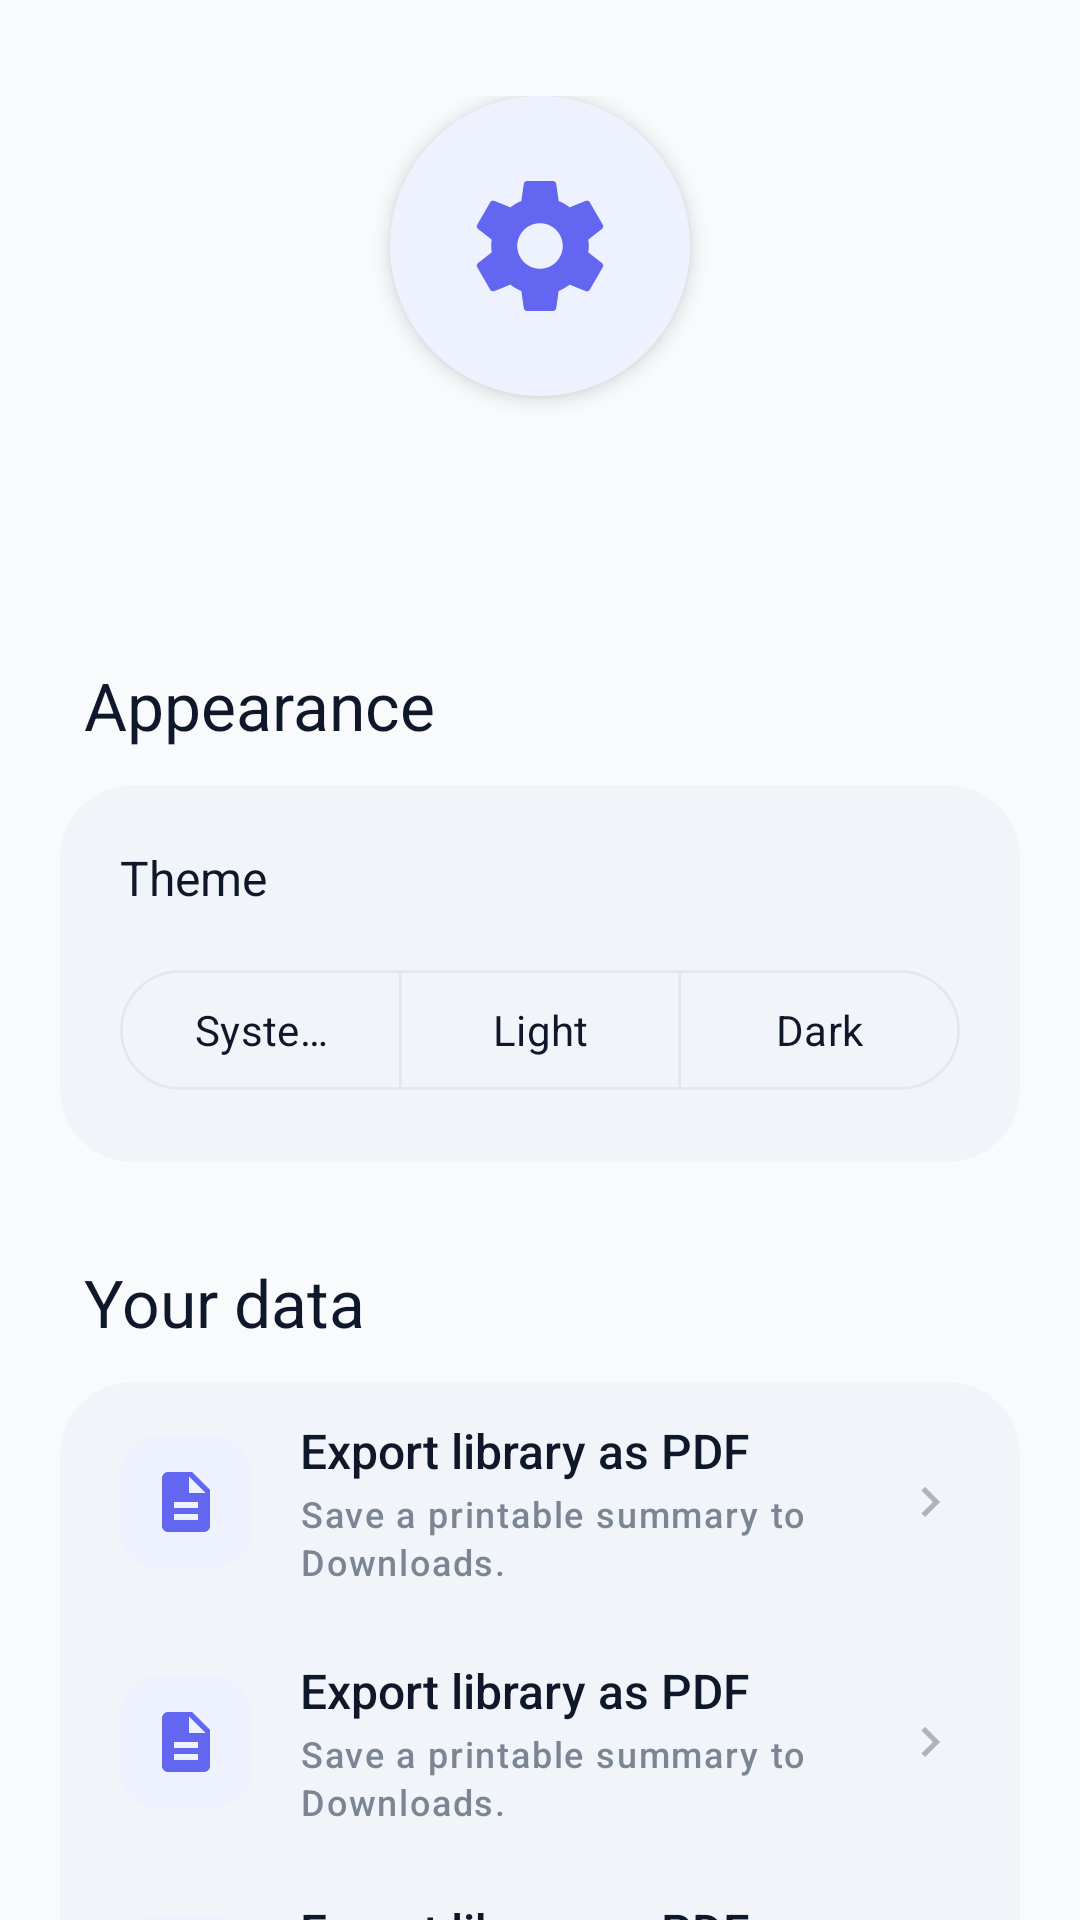

Where to tap for icons on this 1080 x 1920 app screen, as [x,y]:
chevron right: [930,1502], [930,1742]
settings: [540,246]
